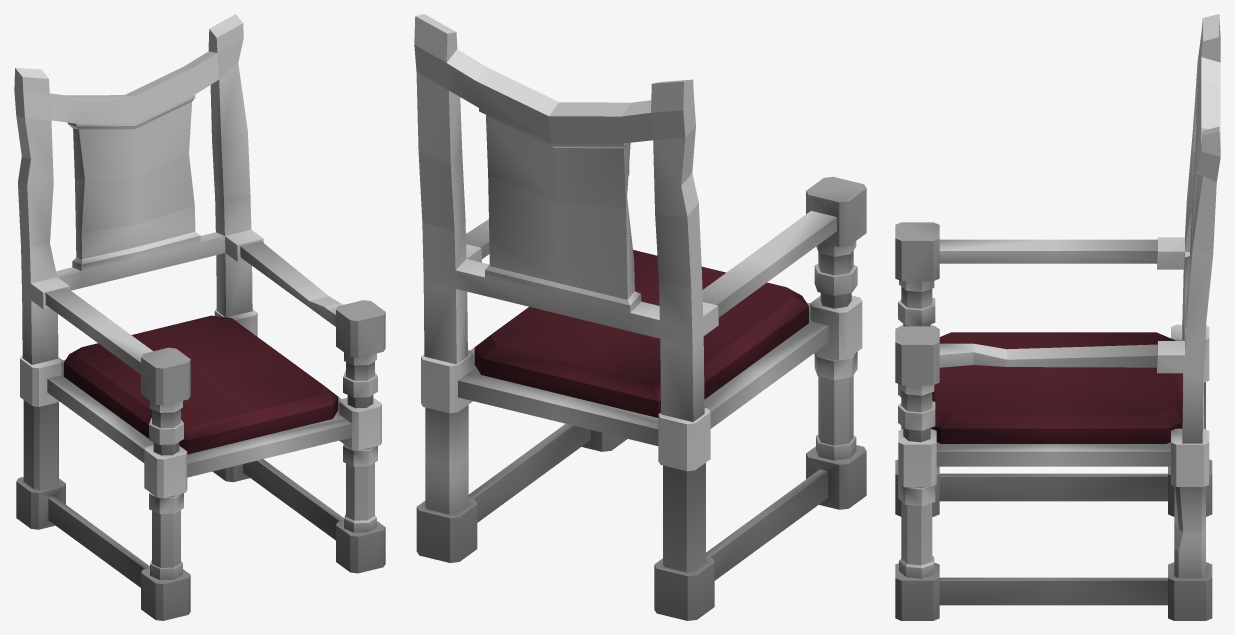
Rendered from pq_chaise_2.glb.
The picture shows the model from 3 angles, left to right: view 1: azimuth 30°, elevation 25°; view 2: azimuth 150°, elevation 25°; view 3: azimuth 270°, elevation 25°; orthographic projection. The views are drawn at different scales.
Parts seen in each view (by area): view 1: Chair; view 2: Chair; view 3: Chair.
Boxes of the visible parts, x1=… form: Chair: x1=14, y1=14, x2=385, y2=620; Chair: x1=414, y1=14, x2=866, y2=620; Chair: x1=895, y1=14, x2=1220, y2=620.
Bounding box in the file's own units: 0.541 × 1 × 0.6061.
